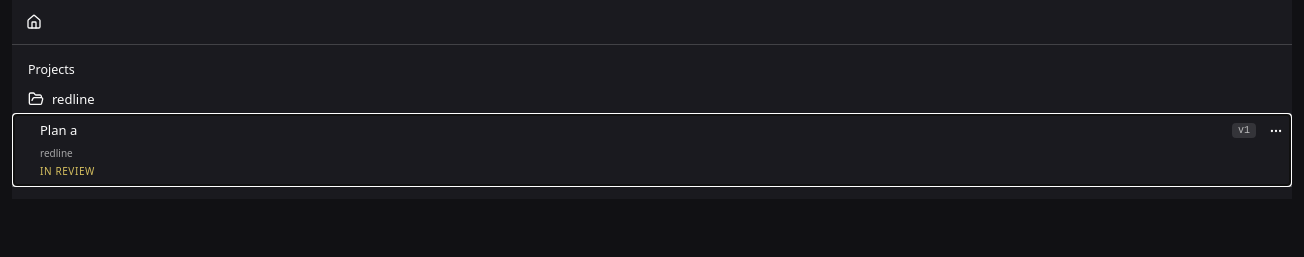
Test: the classic row's ⋯ menu › lists Open plan · Rename · Archive, then Delete plan below a rule with its ⌫
Click the button with class "rl-sb-dots". click: (1276, 131)
box: [1264, 119, 1288, 143]
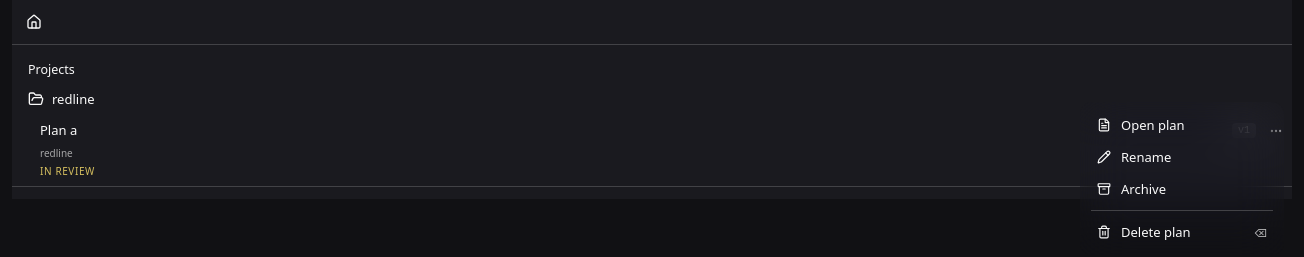
expect the text "⌫" is shown: met, box [1254, 224, 1267, 240]
Press Escape in the menu item with class "rl-row-menu-item" showing "Open plan", box [1087, 109, 1277, 141]
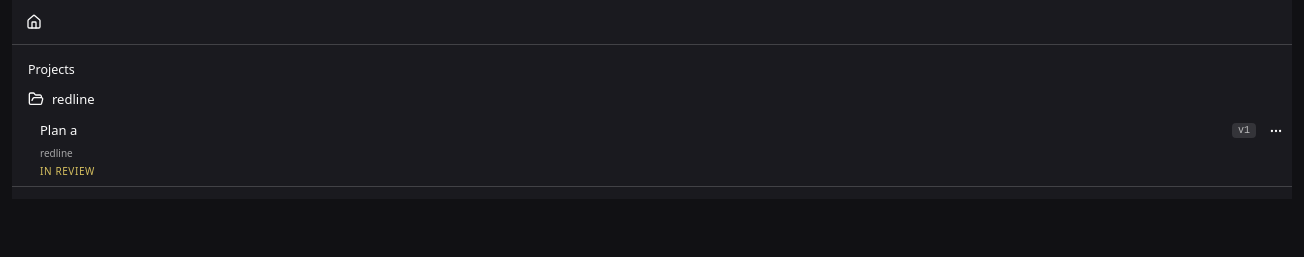
expect the menu item with class "rl-row-menu-item" is gone: met
